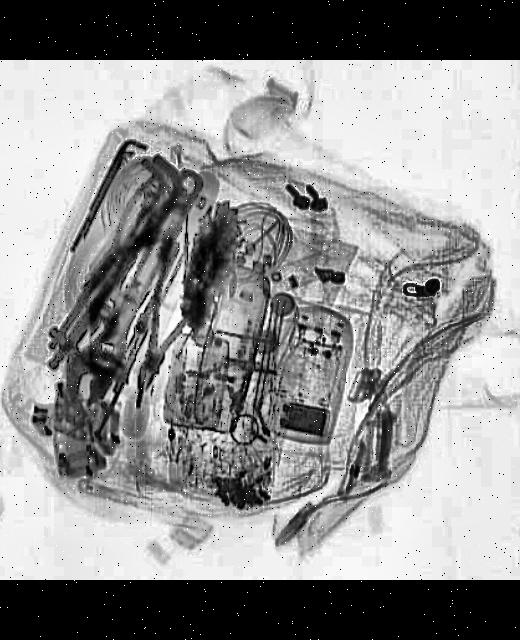Pliers: (119, 238, 222, 398)
Wrench: (48, 160, 224, 412)
